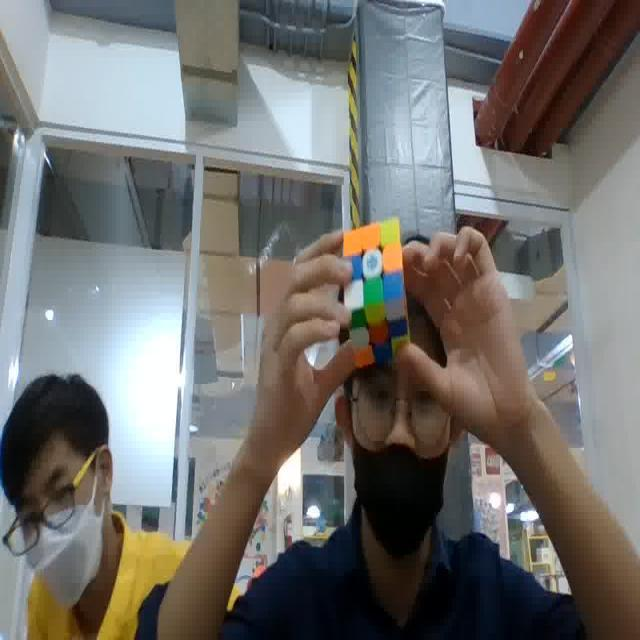Rub: (337, 215, 414, 364)
